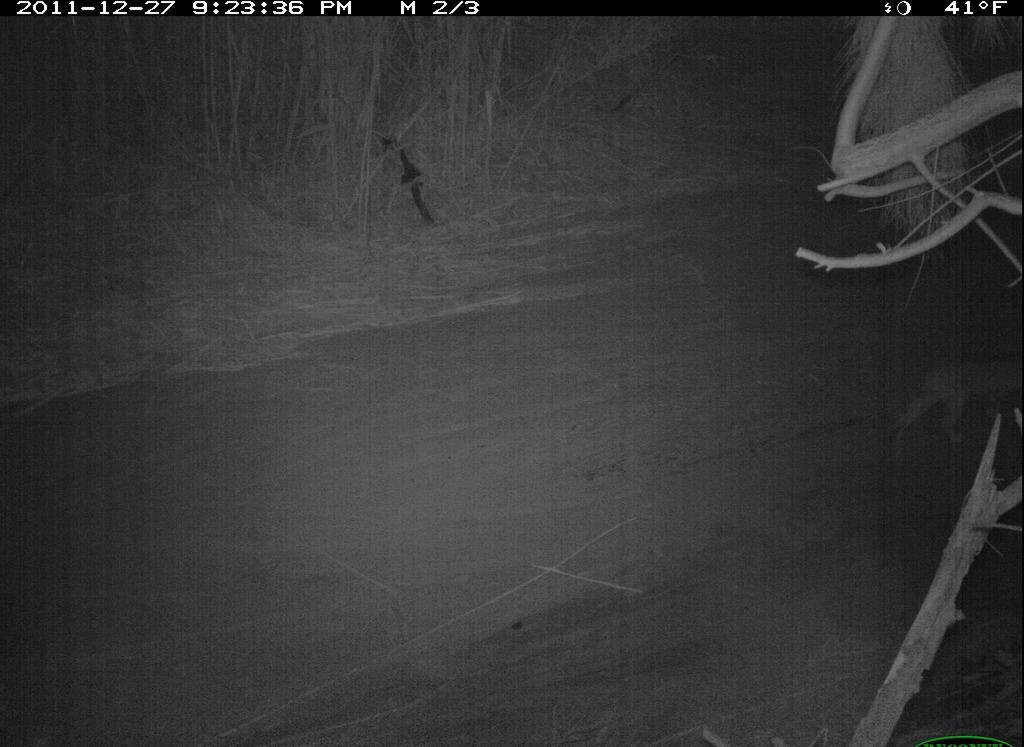bobcat: (884, 335, 1014, 466)
